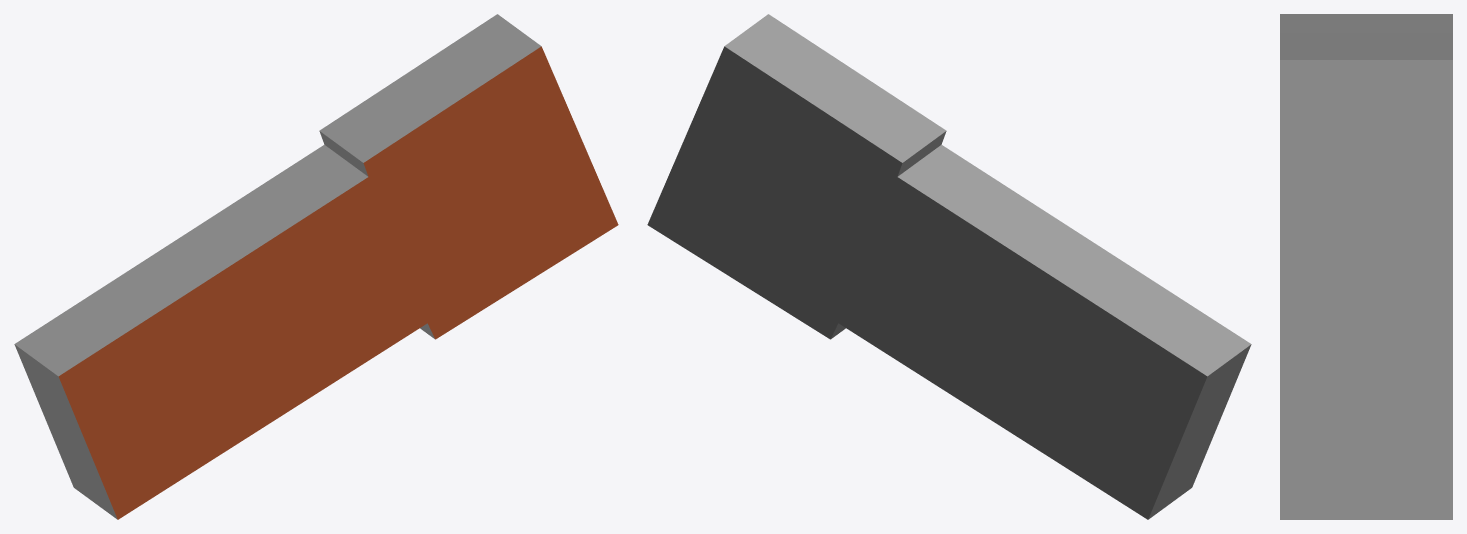
The model's file is construction_1011_assumed_A_Casa_h6m.obj.
The picture shows the model from 3 angles, left to right: view 1: azimuth 30°, elevation 25°; view 2: azimuth 150°, elevation 25°; view 3: azimuth 270°, elevation 25°; orthographic projection. The views are drawn at different scales.
Parts seen in each view (by area): view 1: construction_1011_assumed_A_Casa; view 2: construction_1011_assumed_A_Casa; view 3: construction_1011_assumed_A_Casa.
Boxes of the visible parts, box(x1,y1,x2,y2) form: construction_1011_assumed_A_Casa: box(14, 14, 618, 519); construction_1011_assumed_A_Casa: box(647, 14, 1251, 519); construction_1011_assumed_A_Casa: box(1280, 14, 1452, 519).
Size of the model in its own units: 43.97 by 27.78 by 6.
